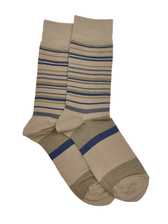sock: (22, 17, 150, 209)
